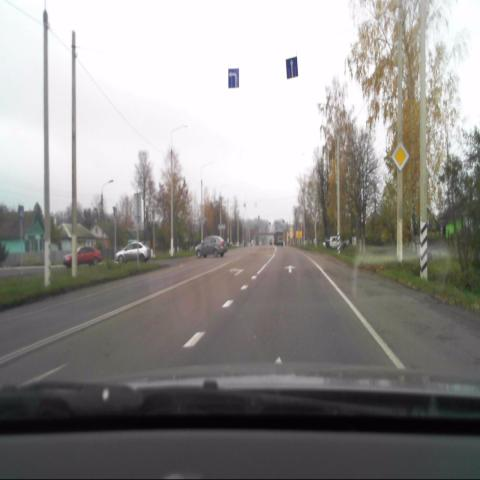2_1: (392, 144, 409, 171)
5_15_2: (286, 56, 300, 79), (227, 67, 240, 86)
